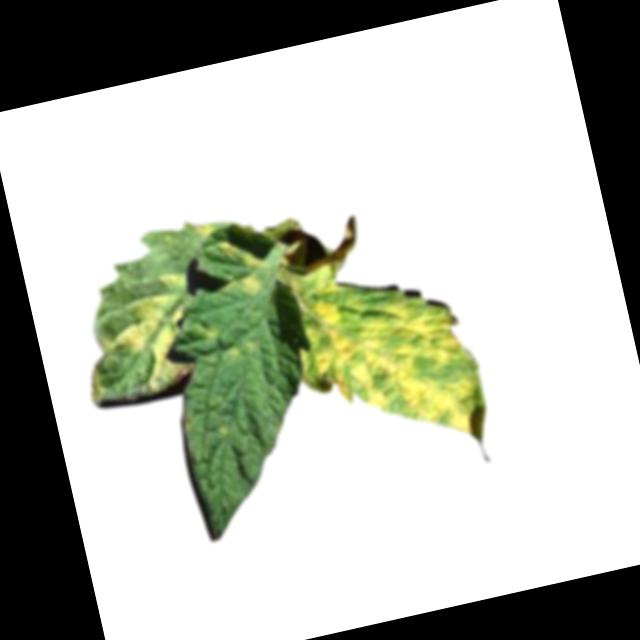Leaf_Mold: (284, 237, 497, 477), (105, 267, 211, 395), (217, 270, 266, 299), (191, 219, 218, 244), (239, 251, 268, 274), (214, 240, 238, 262)
